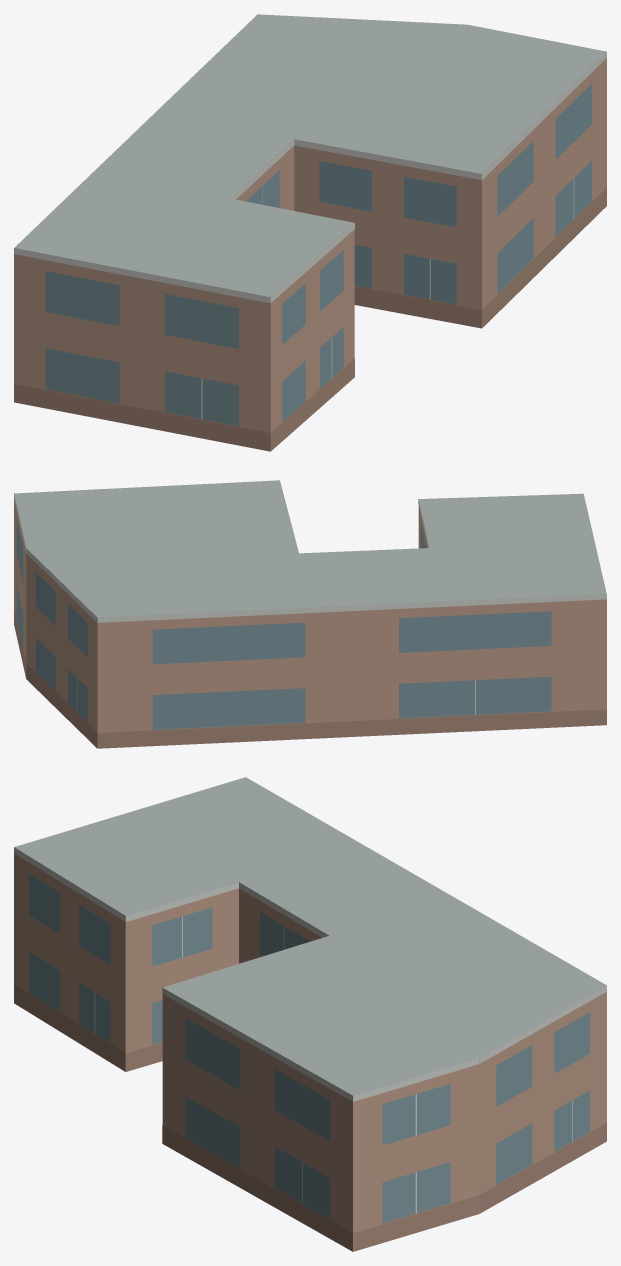
The model's file is survey-upis-32762382.glb.
The picture shows the model from 3 angles, top to bottom: view 1: azimuth 30°, elevation 25°; view 2: azimuth 150°, elevation 25°; view 3: azimuth 270°, elevation 25°; orthographic projection. The views are drawn at different scales.
Parts seen in each view (by area): view 1: survey-upis-32762382.tmp; view 2: survey-upis-32762382.tmp; view 3: survey-upis-32762382.tmp.
Part boxes in pixels (x1=…): survey-upis-32762382.tmp: x1=14, y1=14, x2=606, y2=451; survey-upis-32762382.tmp: x1=14, y1=480, x2=606, y2=748; survey-upis-32762382.tmp: x1=14, y1=777, x2=606, y2=1251.
Size of the model in its own units: 26.71 by 6.1 by 21.
